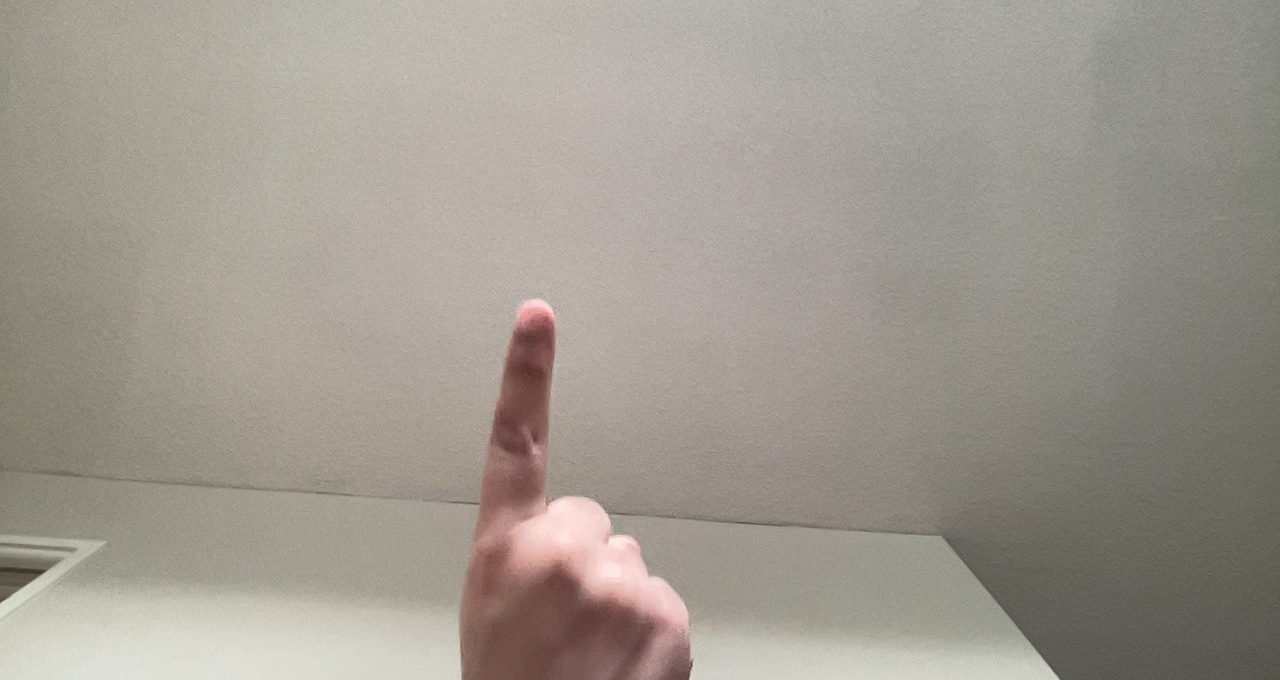fingerup: (464, 287, 704, 674)
